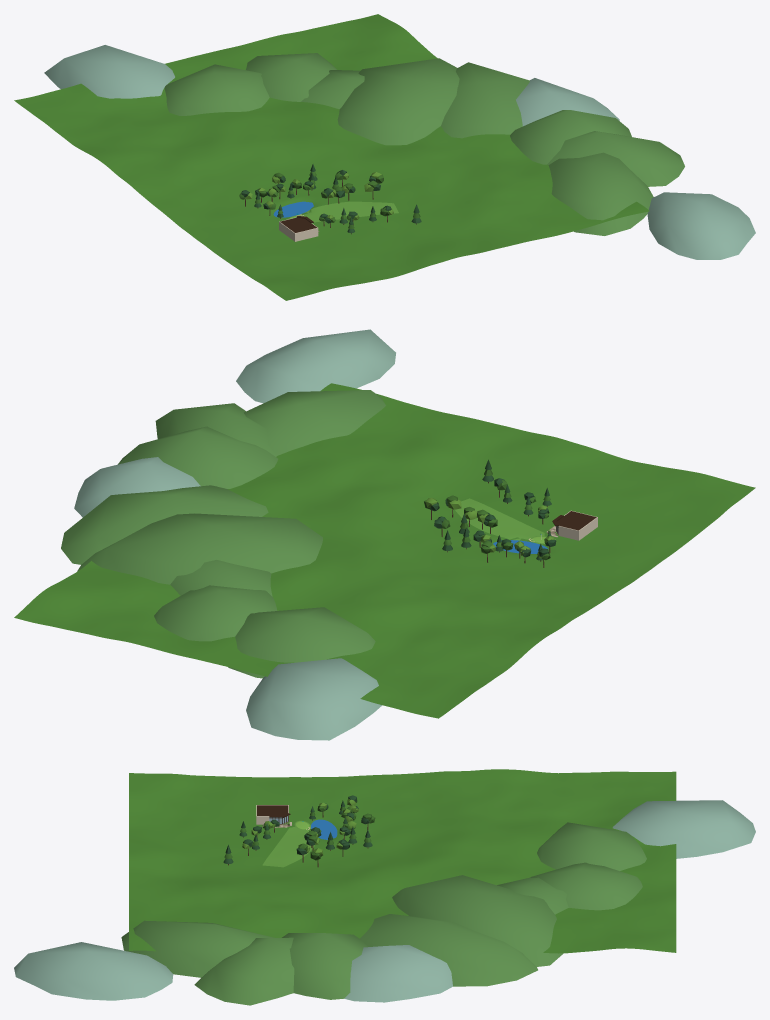
Rendered from ProShop_Room.fbx.
The picture shows the model from 3 angles, top to bottom: view 1: azimuth 30°, elevation 25°; view 2: azimuth 150°, elevation 25°; view 3: azimuth 270°, elevation 25°; orthographic projection. The views are drawn at different scales.
Visible parts, largest first — view 1: Outside_Ground, Outside_Hills, Outside_Trees, Outside_Fairway; view 2: Outside_Ground, Outside_Hills, Outside_Trees, Outside_Fairway; view 3: Outside_Ground, Outside_Hills, Outside_Trees, Outside_Fairway.
Part boxes in pixels (x1,y1,x2,y2): Outside_Ground: (14, 14, 649, 300); Outside_Hills: (44, 45, 755, 259); Outside_Trees: (239, 164, 421, 234); Outside_Fairway: (301, 201, 398, 222); Outside_Ground: (14, 383, 755, 718); Outside_Hills: (61, 329, 395, 740); Outside_Trees: (424, 459, 556, 567); Outside_Fairway: (455, 498, 544, 540); Outside_Ground: (129, 769, 676, 953); Outside_Hills: (14, 800, 755, 1005); Outside_Trees: (223, 795, 375, 867); Outside_Fairway: (262, 827, 314, 867).
Bounding box in the file's own units: 212 × 16.17 × 298.
